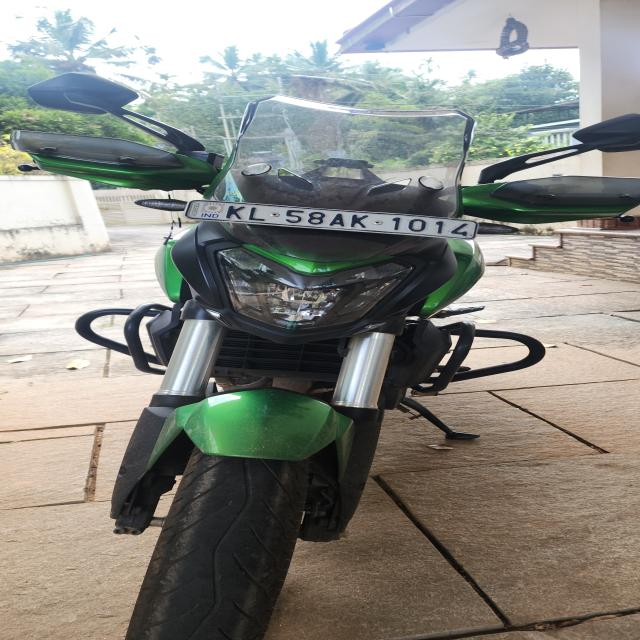headlight: (213, 246, 414, 331)
